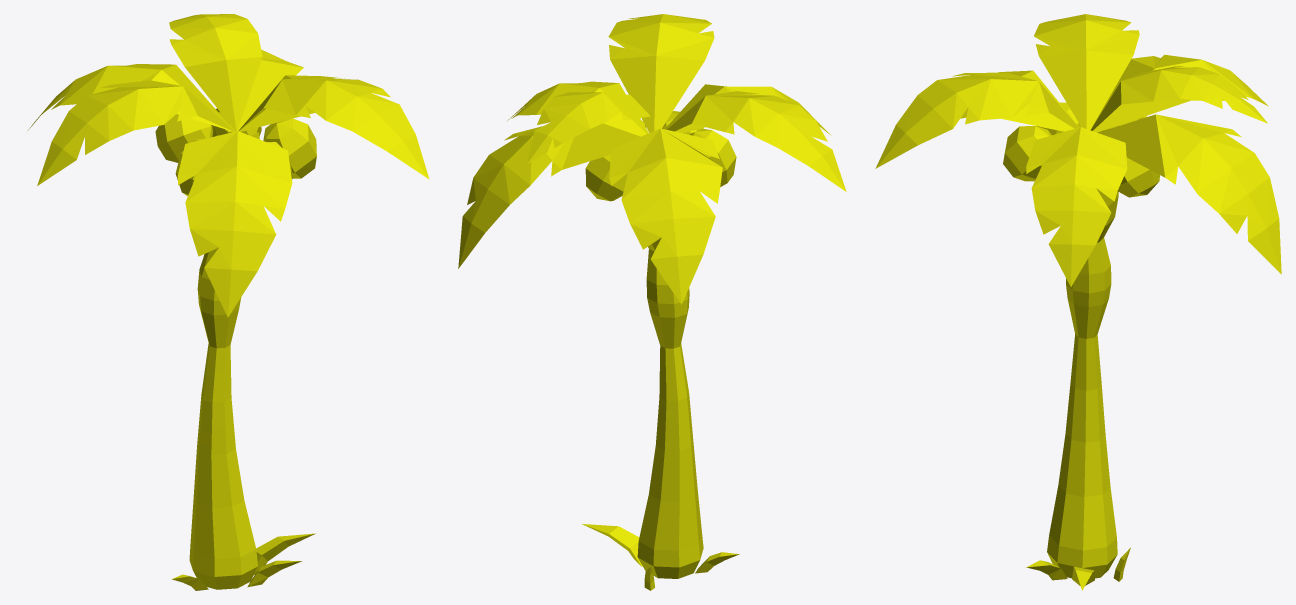
3 renders of one model, left to right at view 1: azimuth 30°, elevation 25°; view 2: azimuth 150°, elevation 25°; view 3: azimuth 270°, elevation 25°, orthographic. The views are drawn at different scales.
Visible parts, largest first — view 1: tree; view 2: tree; view 3: tree.
Part boxes in pixels (x1=…): tree: x1=28, y1=14, x2=429, y2=590; tree: x1=458, y1=14, x2=846, y2=590; tree: x1=875, y1=14, x2=1281, y2=590.
Bounding box in the file's own units: 2.74 × 3.7 × 2.59.
1 material, 1 textured.
